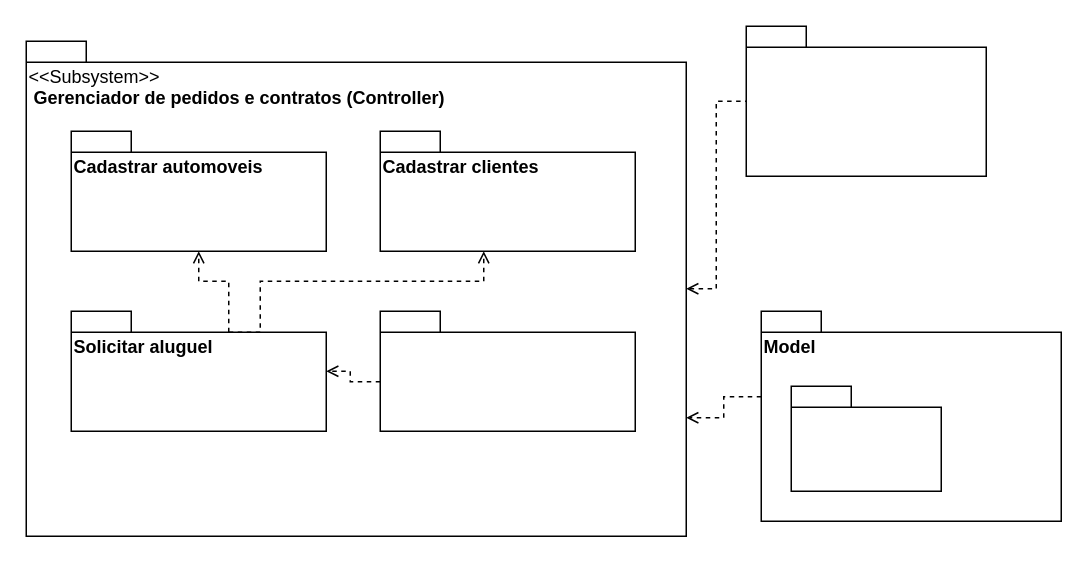
The diagram is 1088 pixels wide and 563 high, and some of its shapes have lost their labels. Here are the shapes that lost their labels. From the top down, the centre of each, then its label:
At (865,100): "<<Subsystem>> Pagina web (View)".
At (507,370): "Gerenciar solicitacao".
At (865,438): "Tratar dados".
